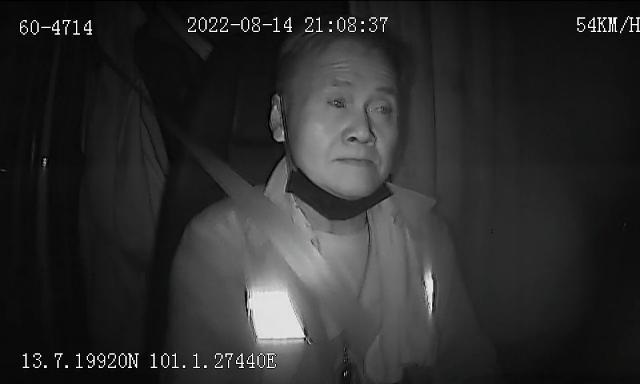SafeDriving: (364, 90, 399, 124), (322, 86, 354, 116)
Seatbelt: (198, 153, 368, 349)
